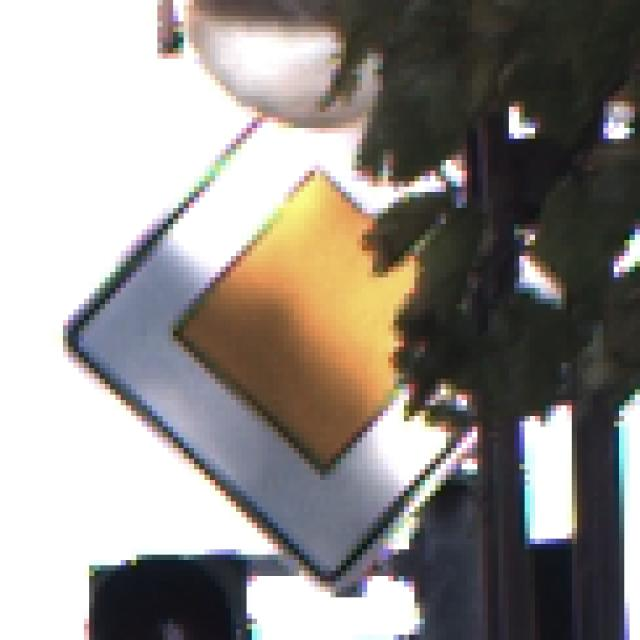Main Road: (54, 60, 589, 588)
